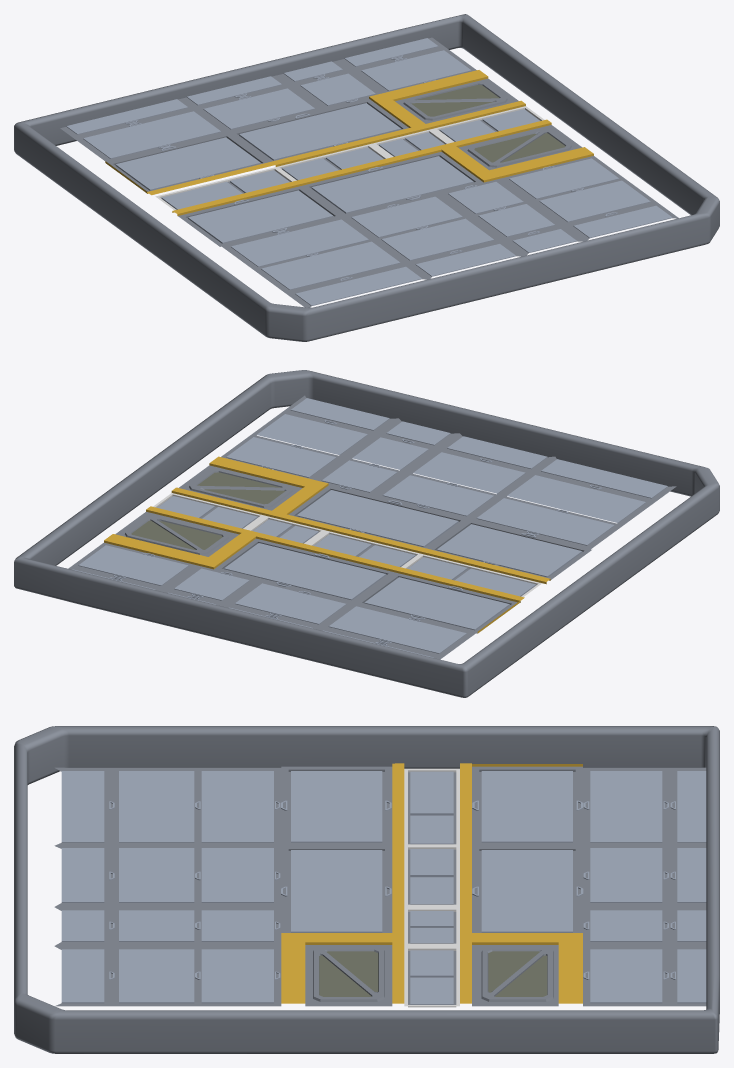
The model's file is Bonus_Level3_Ground.fbx.
The picture shows the model from 3 angles, top to bottom: view 1: azimuth 30°, elevation 25°; view 2: azimuth 150°, elevation 25°; view 3: azimuth 270°, elevation 25°; orthographic projection. The views are drawn at different scales.
Parts seen in each view (by area): view 1: Border1, pCube95 (×2), pCube100 (×4), pCube113, pCube111, pCube122, pPlane1 (×2), pCube87 (×2), pCube112; view 2: Border1, pCube95 (×2), pCube100 (×3), pCube113, pCube111, pCube122, pPlane1 (×2), pCube112, pCube87 (×2); view 3: Border1, pCube95 (×2), pCube100 (×4), pCube113, pCube111, pCube122, pPlane1 (×2), pCube112, pCube87 (×2).
Part boxes in pixels (bbox=[...]): Border1: bbox=[14, 14, 719, 341]; pCube95 (×2): bbox=[147, 100, 626, 270]; pCube100 (×4): bbox=[60, 37, 518, 193]; pCube113: bbox=[377, 180, 657, 263]; pCube111: bbox=[408, 203, 678, 279]; pCube122: bbox=[255, 241, 407, 293]; pPlane1 (×2): bbox=[411, 85, 565, 162]; pCube87 (×2): bbox=[403, 81, 571, 167]; pCube112: bbox=[286, 264, 428, 307]; Border1: bbox=[14, 370, 719, 697]; pCube95 (×2): bbox=[146, 434, 623, 602]; pCube100 (×3): bbox=[68, 511, 519, 657]; pCube113: bbox=[252, 411, 532, 495]; pCube111: bbox=[283, 395, 554, 472]; pCube122: bbox=[502, 472, 654, 525]; pPlane1 (×2): bbox=[131, 472, 285, 549]; pCube112: bbox=[533, 457, 676, 501]; pCube87 (×2): bbox=[125, 469, 293, 554]; Border1: bbox=[14, 726, 719, 1053]; pCube95 (×2): bbox=[194, 763, 471, 1007]; pCube100 (×4): bbox=[472, 764, 706, 1006]; pCube113: bbox=[111, 846, 194, 1006]; pCube111: bbox=[54, 846, 111, 1006]; pCube122: bbox=[111, 767, 194, 845]; pPlane1 (×2): bbox=[319, 951, 547, 996]; pCube112: bbox=[54, 767, 111, 845]; pCube87 (×2): bbox=[313, 947, 553, 1001].
Size of the model in its own units: 561 by 36.61 by 575.
